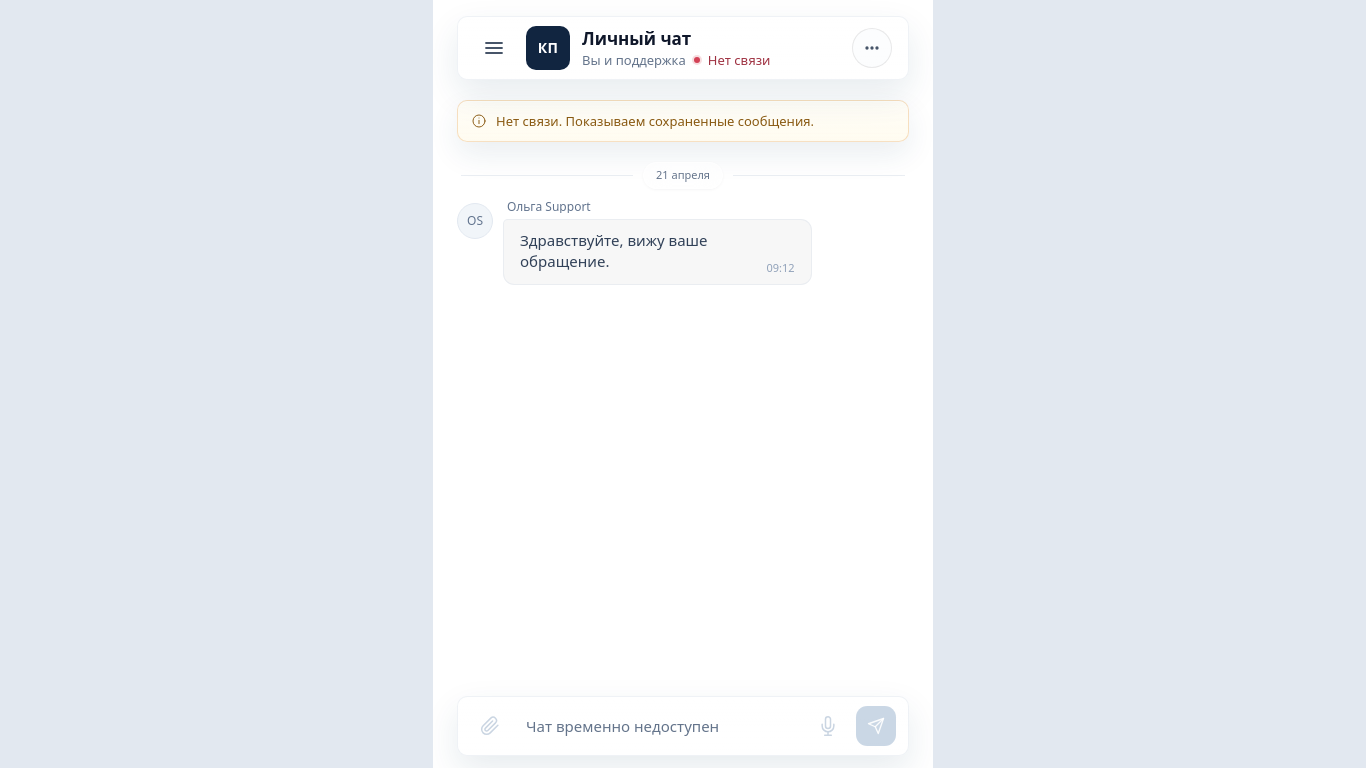
Test case: ChatPage media panel › opens media and files from the chat menu and returns to the transcript
The width and height of the screenshot is (1366, 768).
Expected: the text "Здравствуйте, вижу ваше обращение." is shown, x1=520 y1=230 x2=712 y2=271
Step 1. Click the button named "Открыть меню чата" → (872, 48), box x1=852 y1=28 x2=892 y2=68
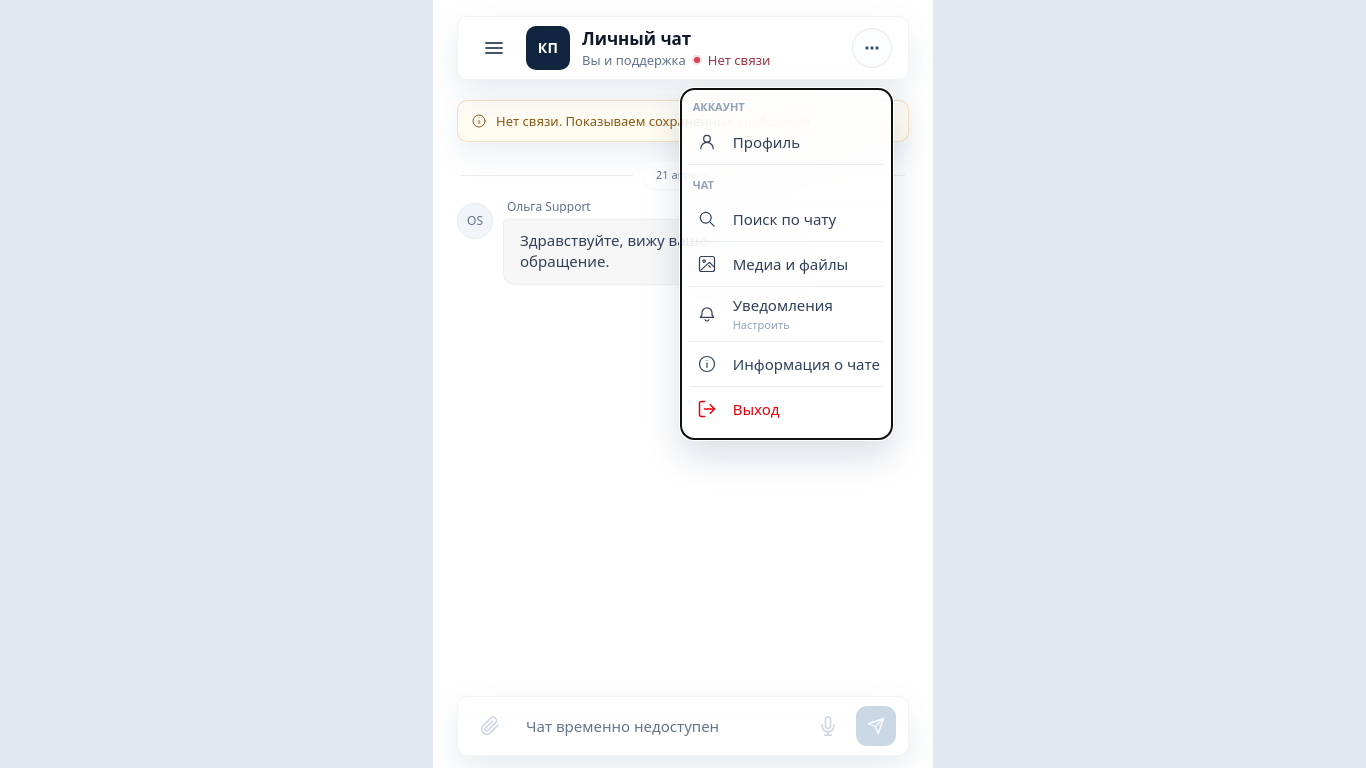
Step 2. Click the menu item "Медиа и файлы" → (786, 264), box x1=689 y1=242 x2=884 y2=287
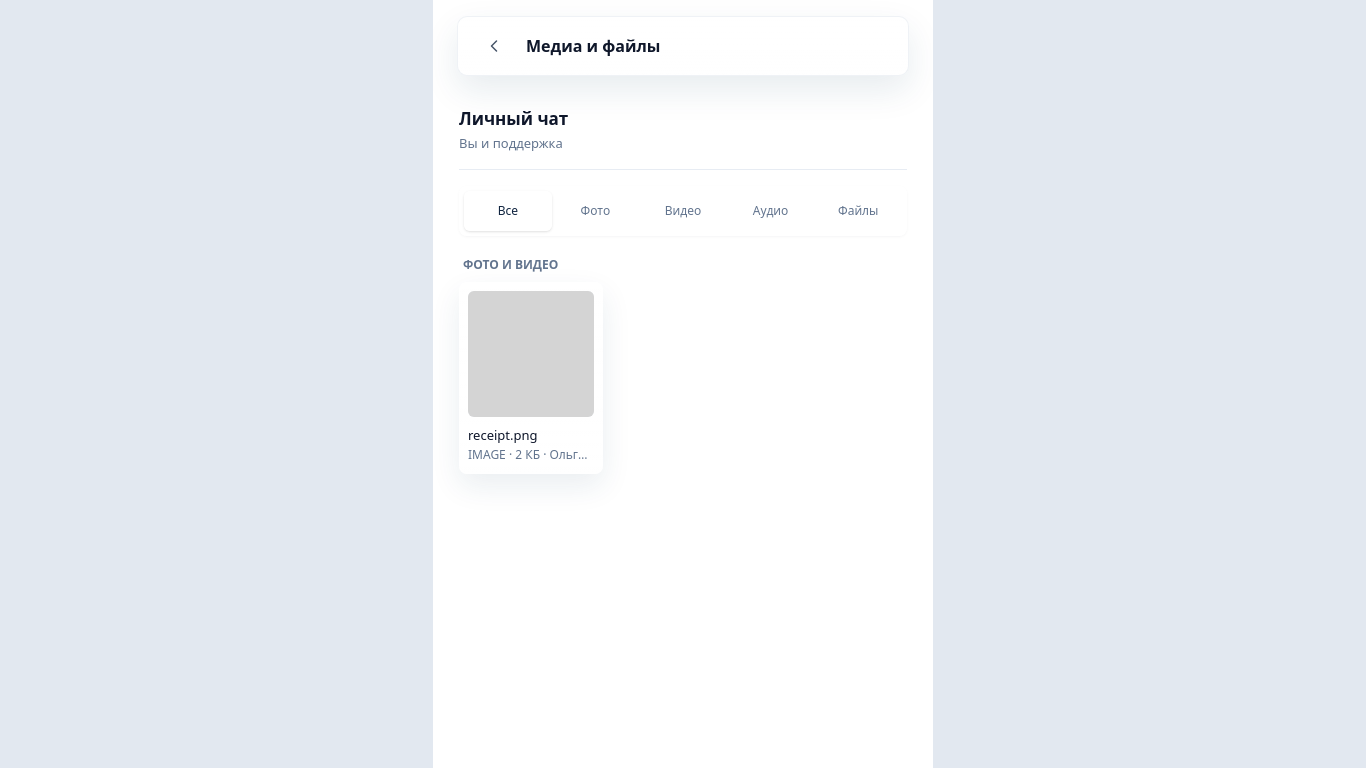
Now the heading "Медиа и файлы" is shown, box x1=526 y1=35 x2=660 y2=57
Now the text "receipt.png" is shown, box x1=468 y1=426 x2=538 y2=444
Step 3. Click the button named "Вернуться к чату" → (494, 46), box x1=474 y1=26 x2=514 y2=66
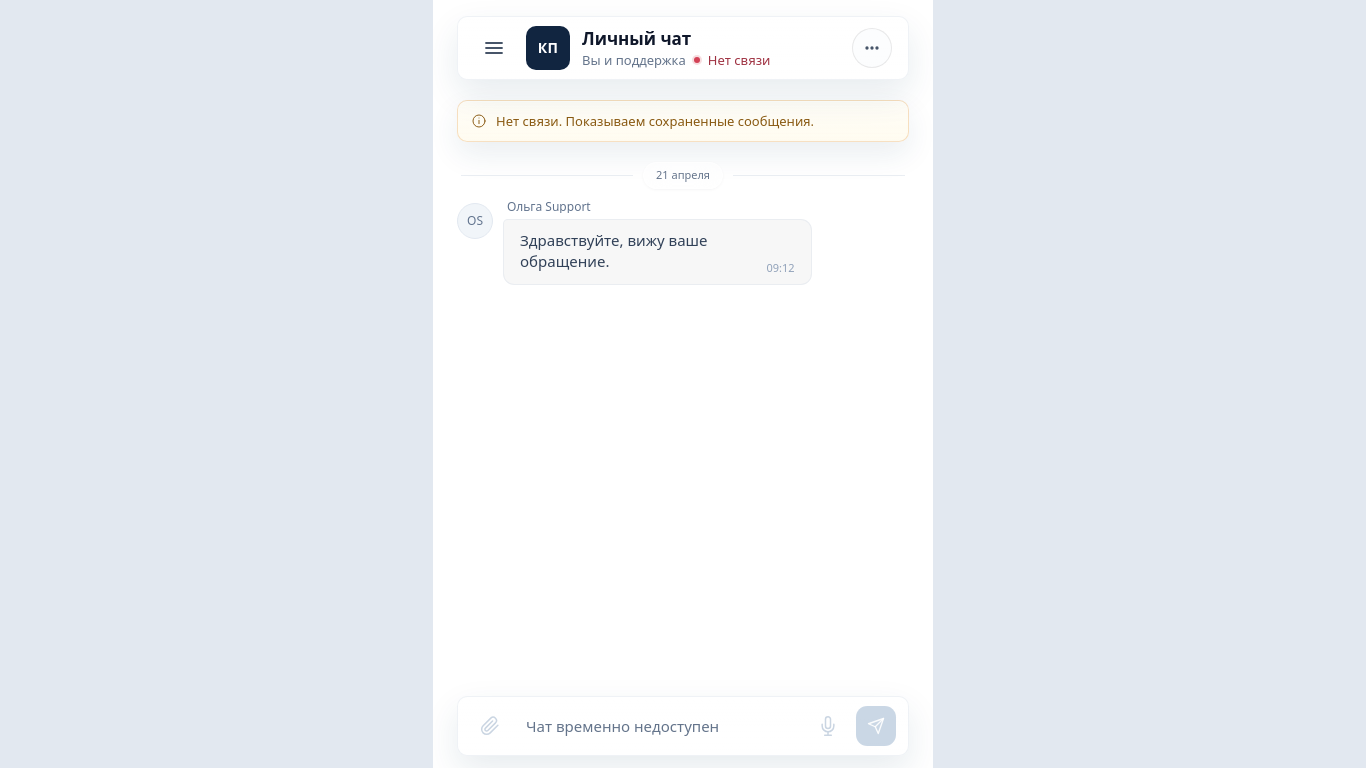
Expected: the text "Здравствуйте, вижу ваше обращение." is shown, x1=520 y1=230 x2=712 y2=271
Now the heading "Медиа и файлы" is gone
